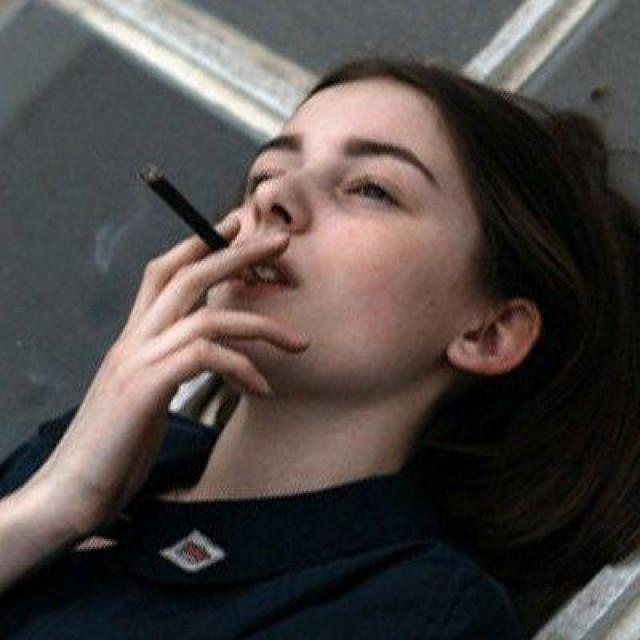cigarette: (124, 146, 260, 324)
